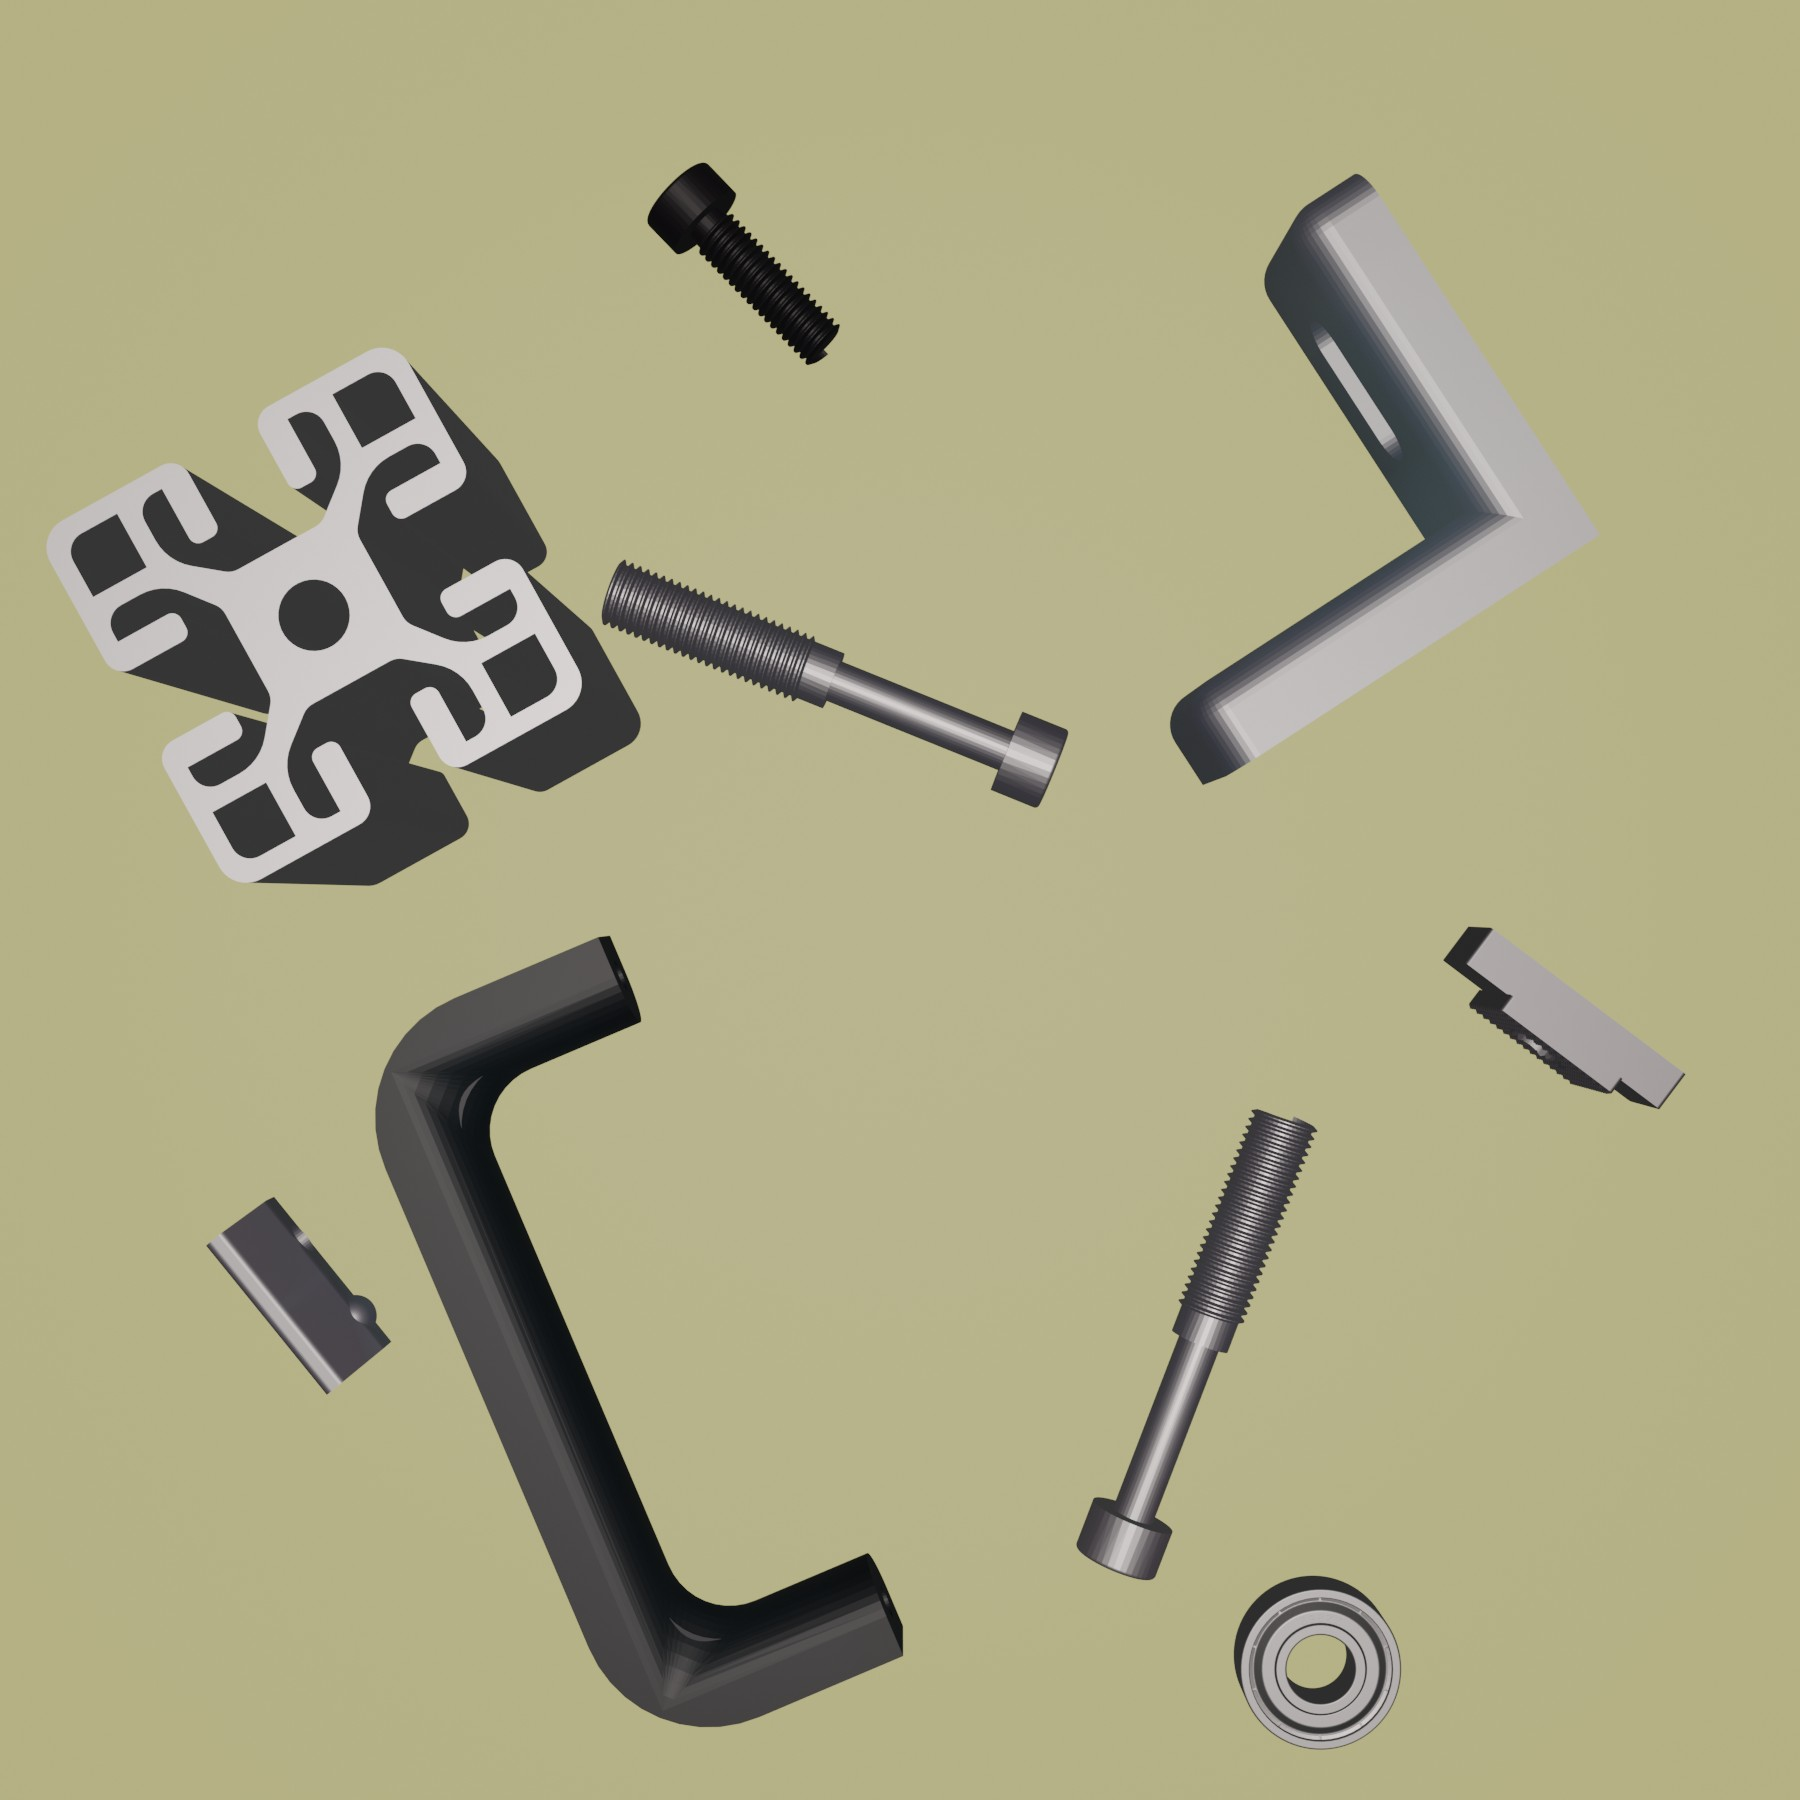Aluminium Extension: (41, 345, 643, 888)
Ball Bearing: (1228, 1573, 1404, 1752)
Multiwinkel: (1167, 170, 1592, 790)
Pull Handle: (371, 931, 908, 1731)
Shoulder Socket Head Cap Screw: (597, 555, 1070, 809), (1073, 1101, 1319, 1582)
Socket Head Cap Screw: (645, 158, 842, 369)
T Nut Square: (1441, 920, 1688, 1114)
T Spring Nut: (204, 1192, 392, 1398)
